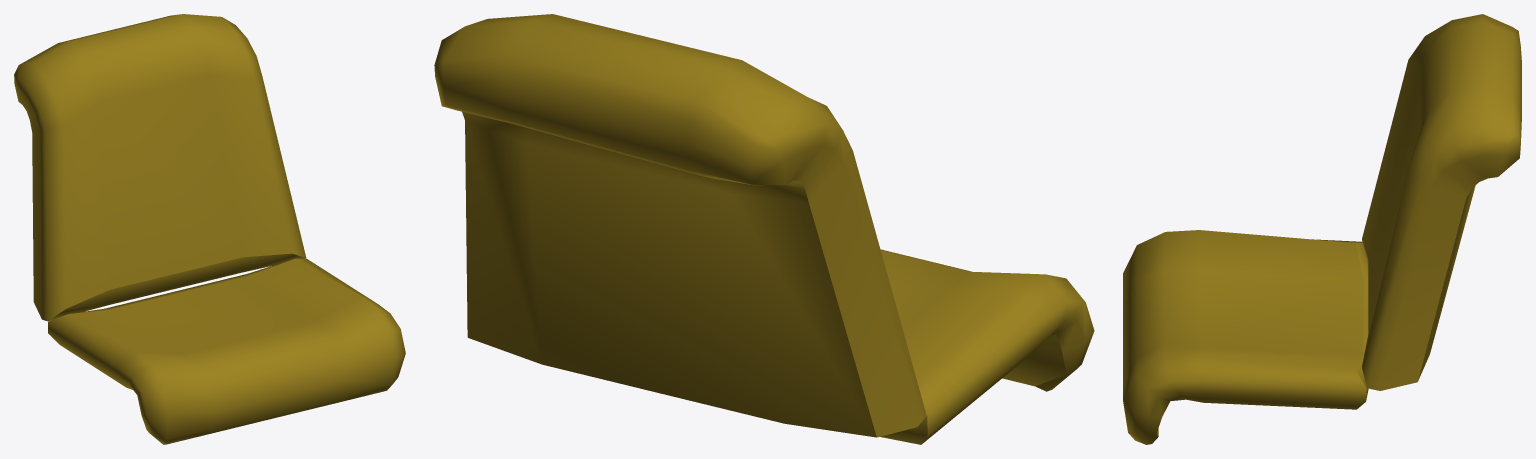
File: car seat.FBX
The picture shows the model from 3 angles, left to right: view 1: azimuth 30°, elevation 25°; view 2: azimuth 150°, elevation 25°; view 3: azimuth 270°, elevation 25°; orthographic projection. The views are drawn at different scales.
Parts seen in each view (by area): view 1: Object060; view 2: Object060; view 3: Object060.
Boxes of the visible parts, left/top/right/bottom form: Object060: left=14, top=14, right=405, bottom=444; Object060: left=434, top=14, right=1094, bottom=444; Object060: left=1123, top=14, right=1521, bottom=444.
Bounding box in the file's own units: 1.03 × 1.08 × 1.19.
